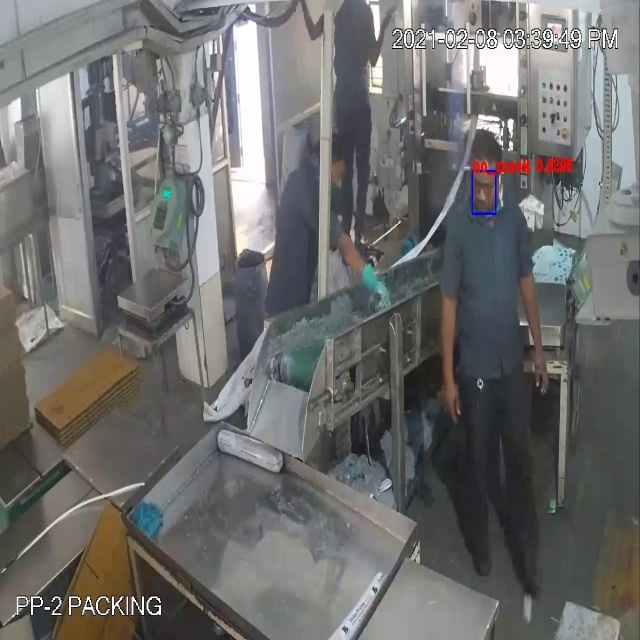Guantes: (333, 220, 396, 319)
Sin_guantes: (427, 267, 471, 443), (510, 248, 559, 403)
